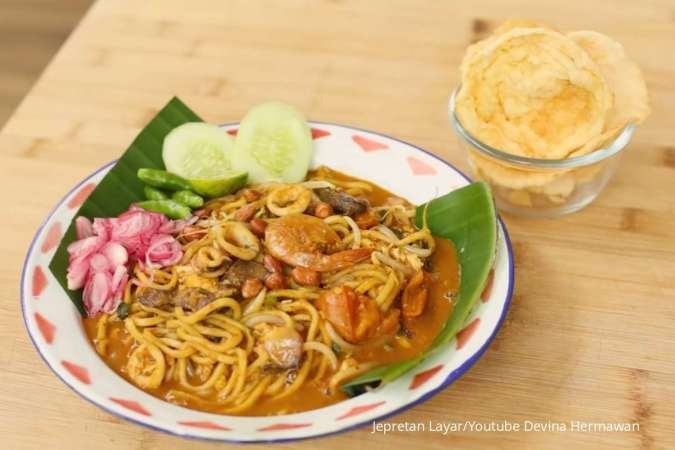mie_aceh: (94, 189, 457, 410)
